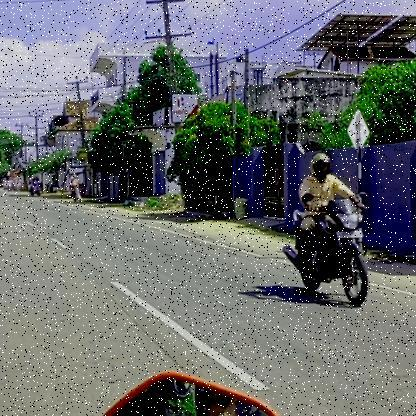motorcycle: (281, 198, 375, 311)
